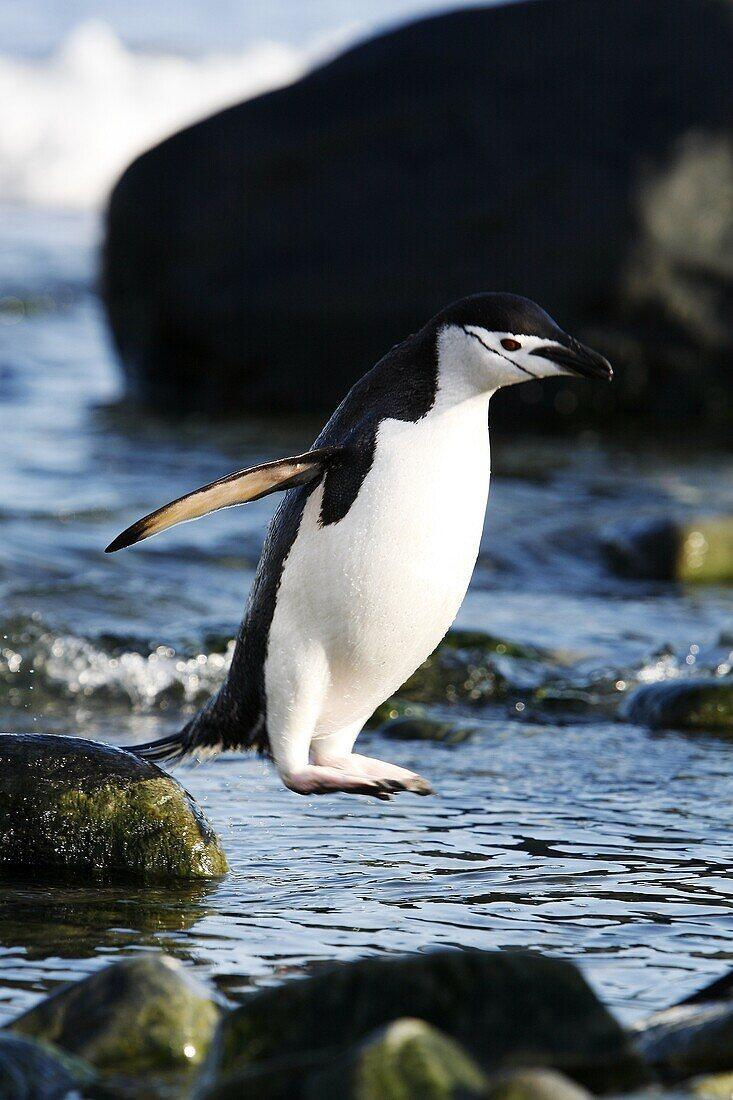Penguin: (107, 294, 609, 795)
